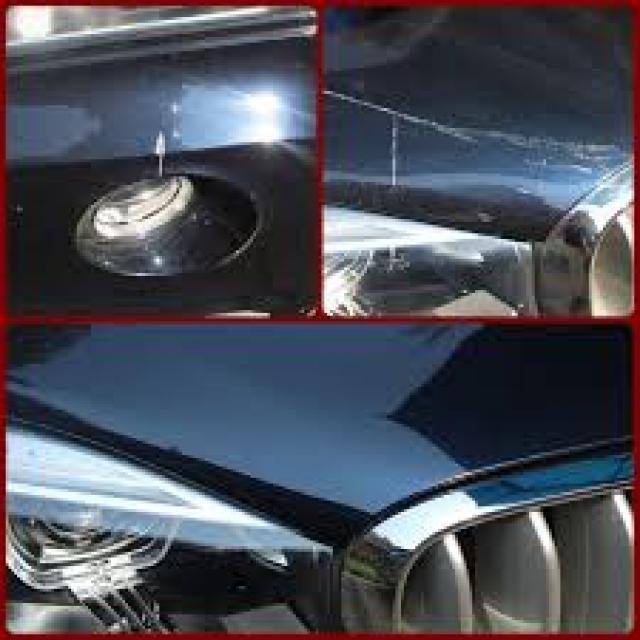dent-or-scratch: (341, 100, 640, 199)
